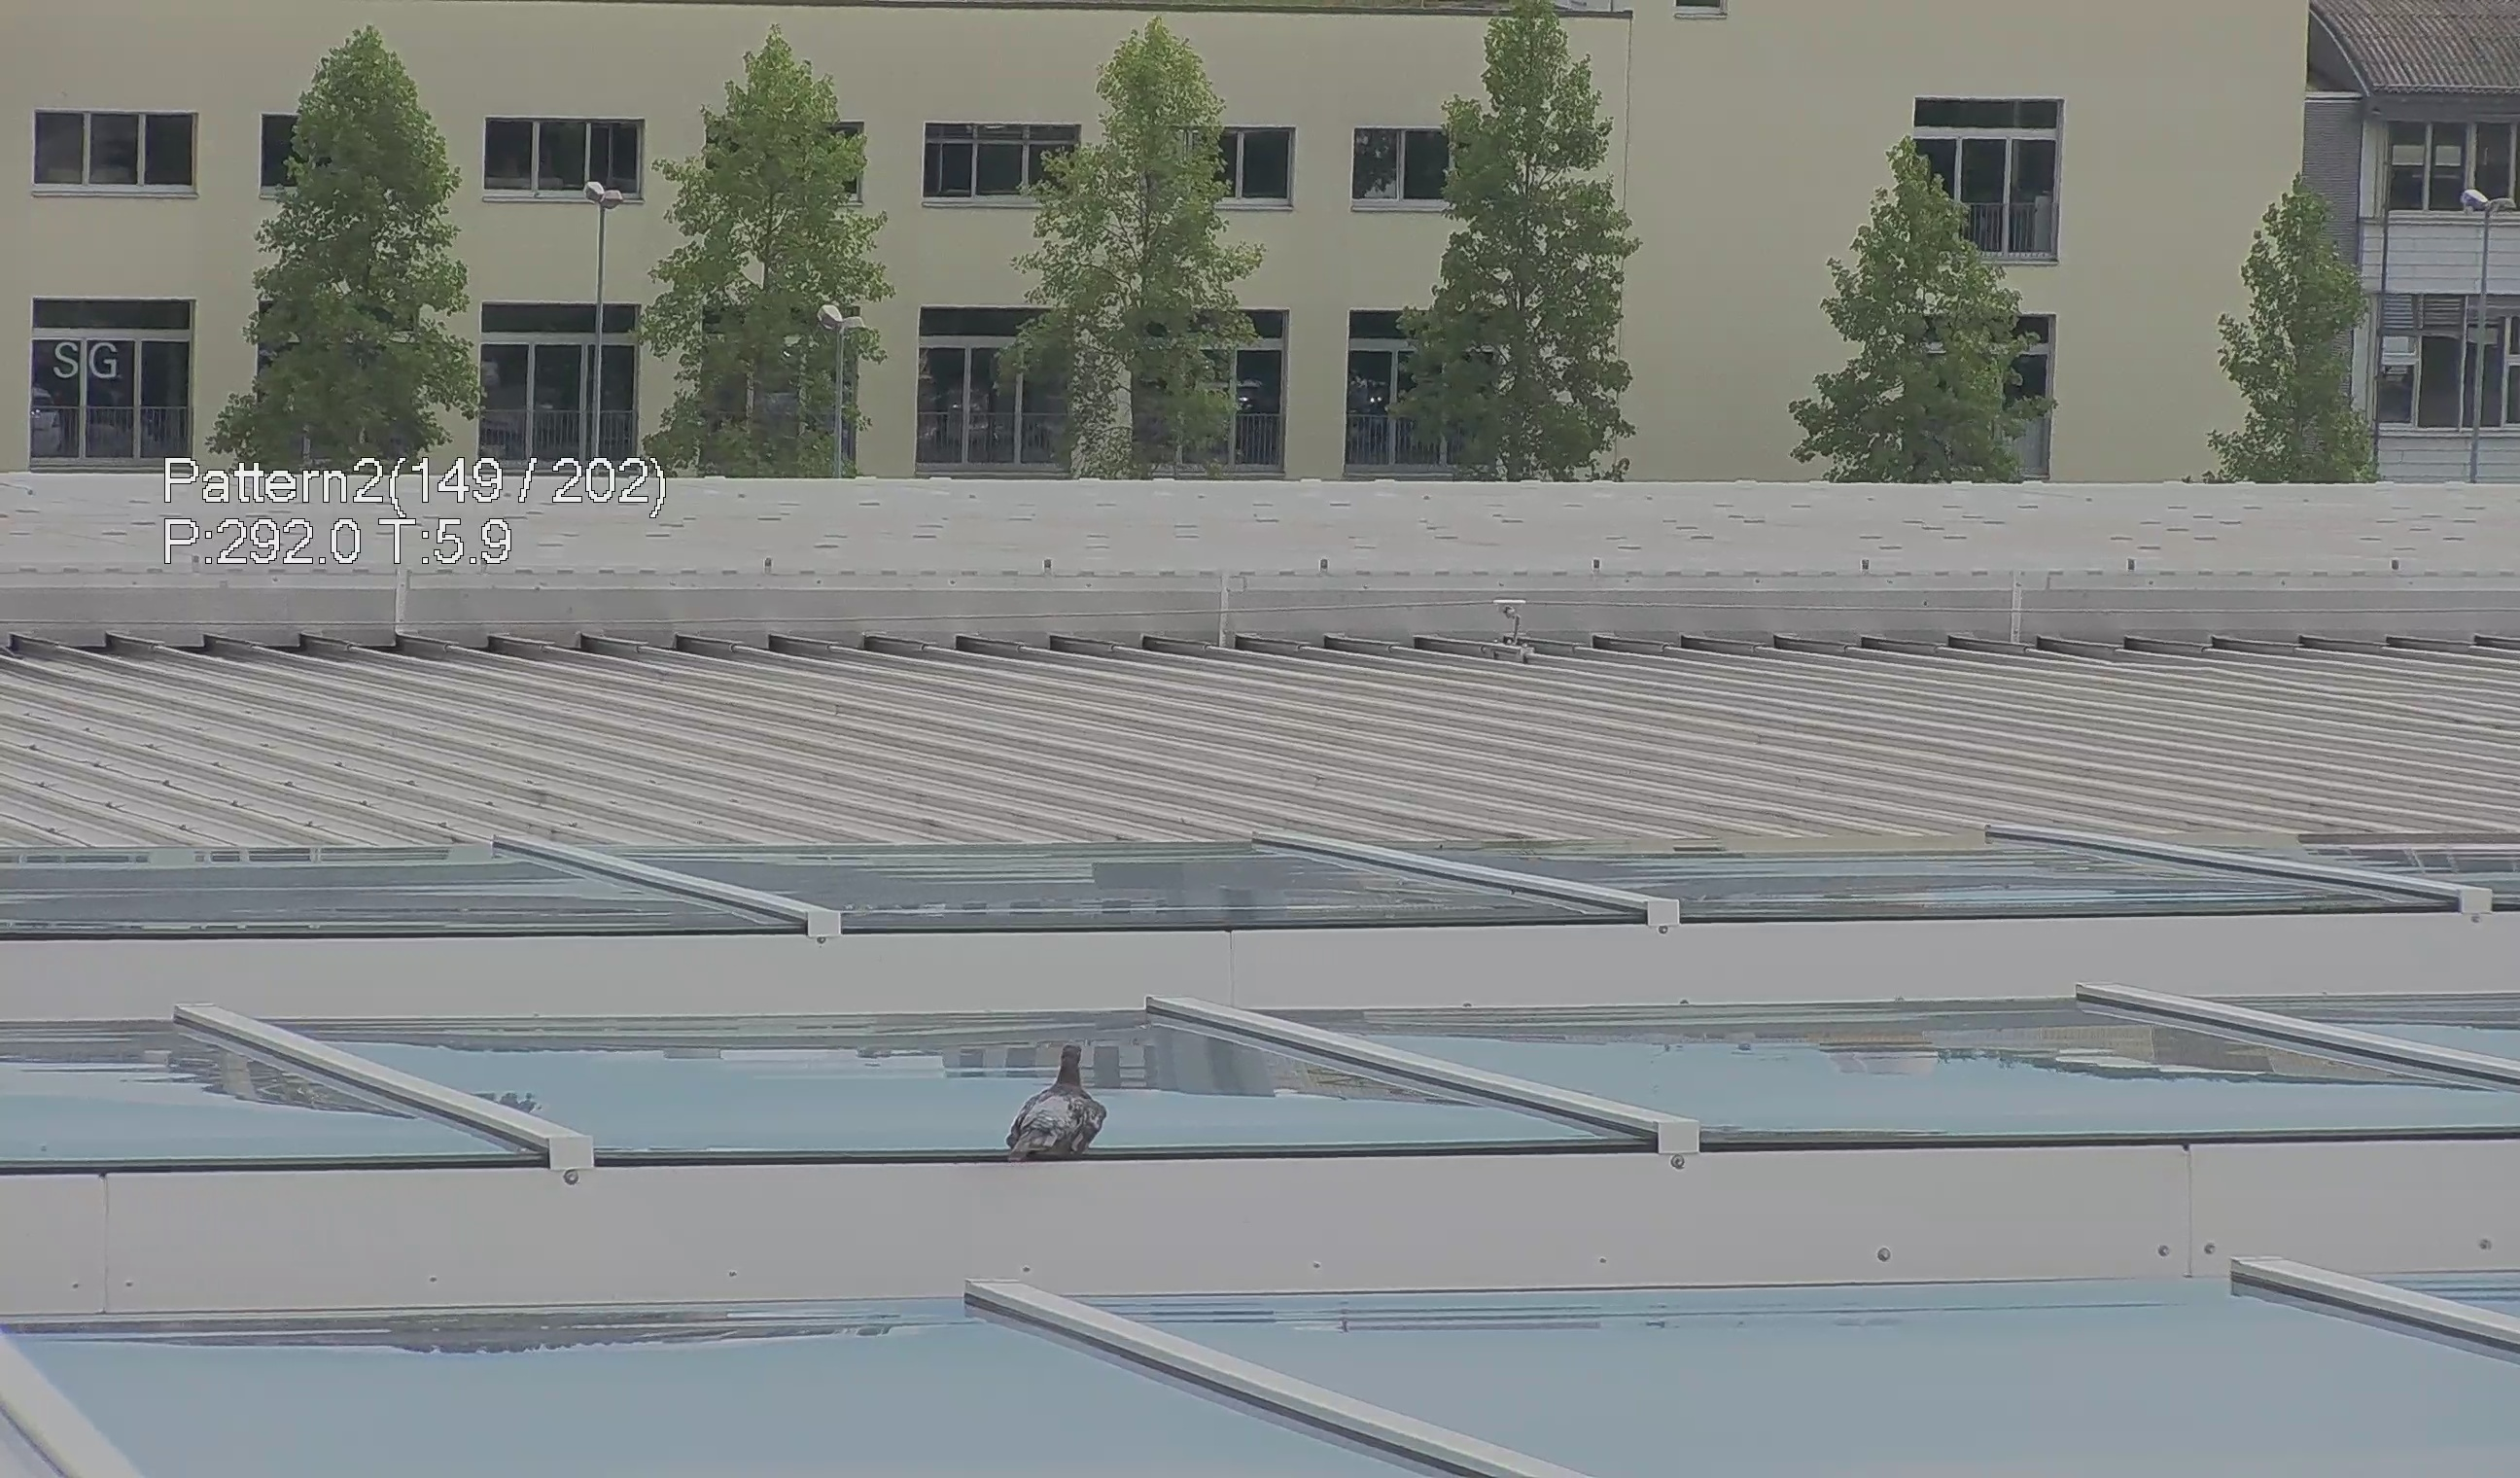Pigeon: (992, 1036, 1108, 1174)
